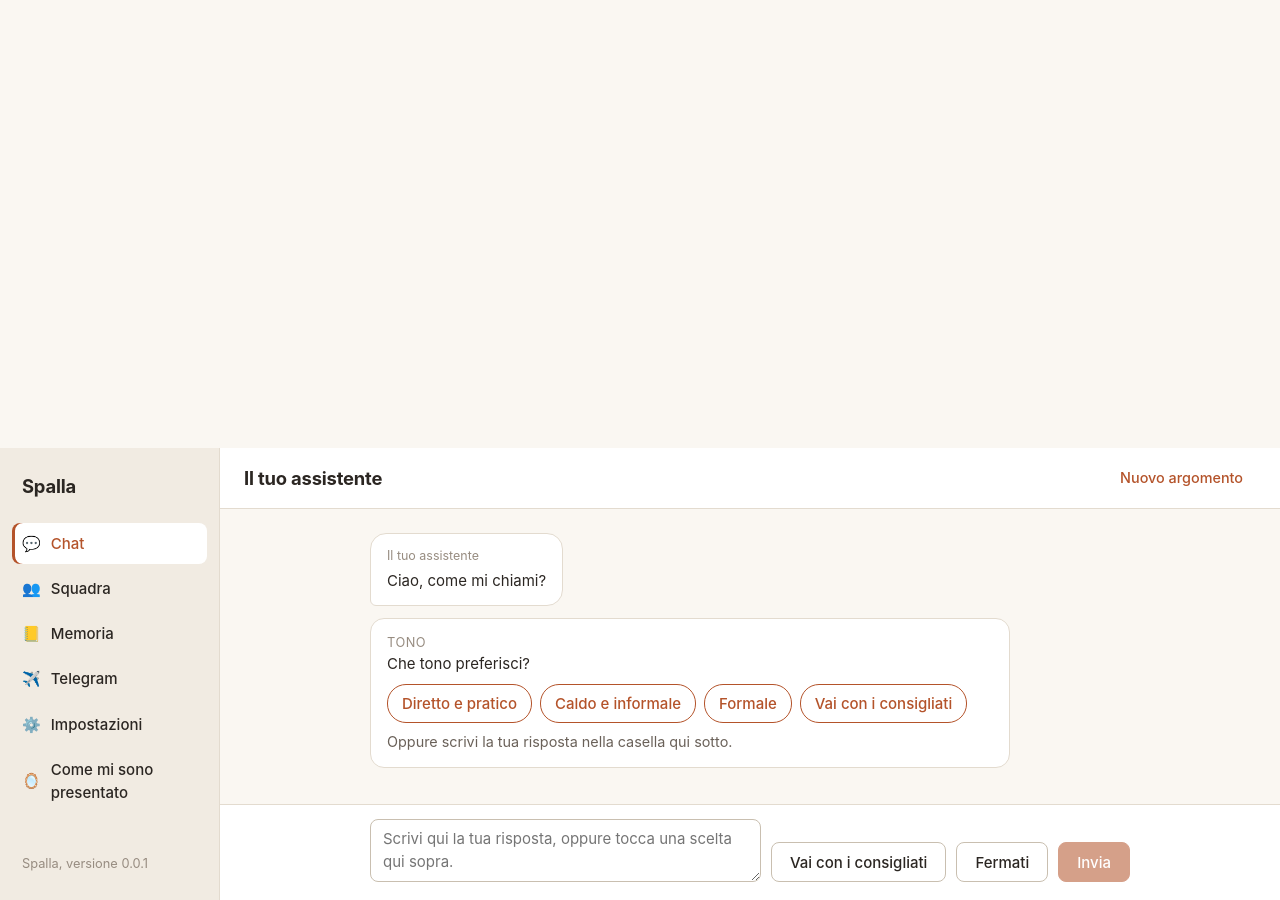
Test: la chat nella finestra › presentazioni: rituale al primo avvio, [Vai con i consigliati] fisso, "Presentazioni concluse" con i problemi
This screenshot has width=1280, height=900.
(page scrolled)
Expected: the text box named "Il tuo messaggio" is shown, [370,819,761,882]
Click the 2nd button "Vai con i consigliati" at (859, 862), box [771,842,946,882]
(page scrolled)
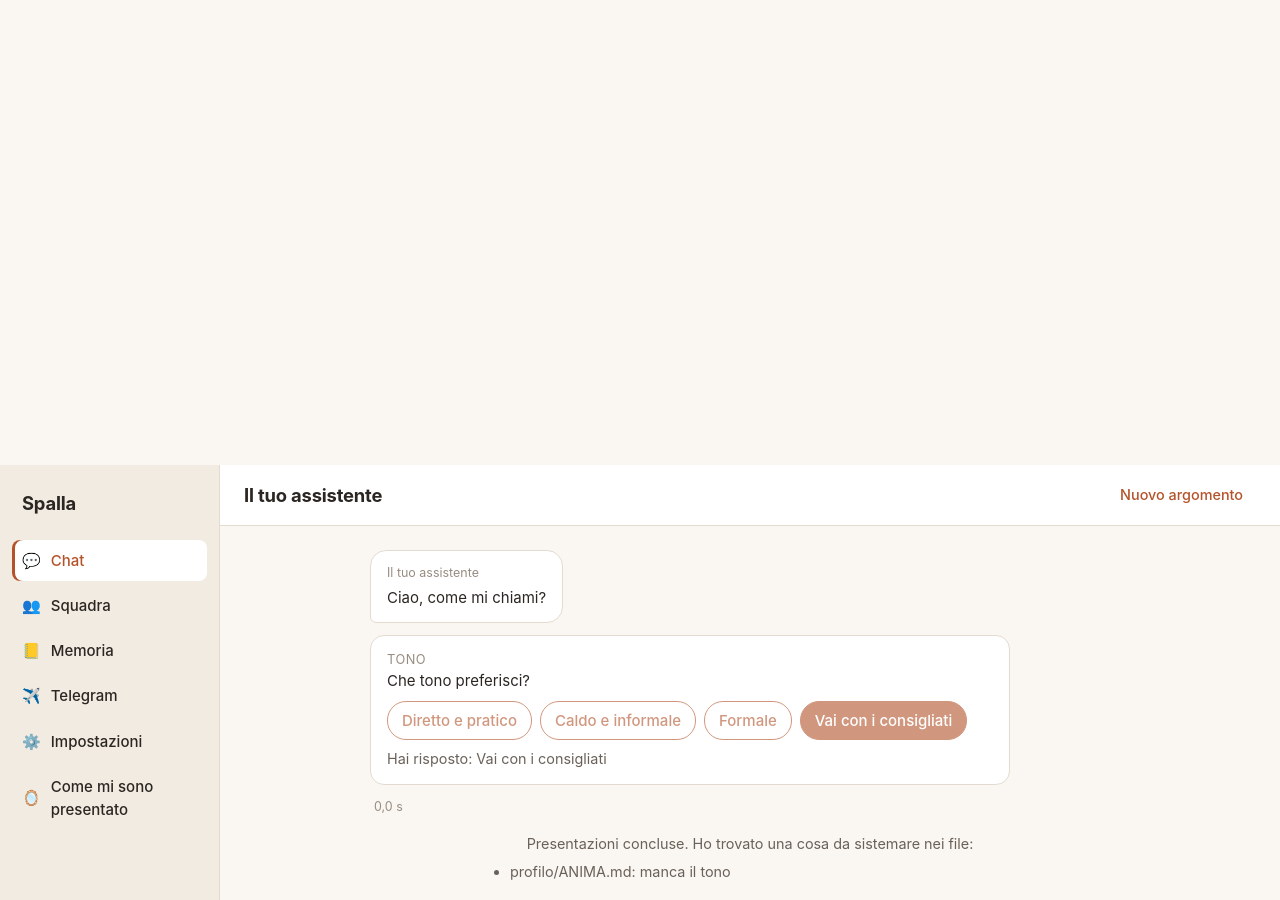
Now the text "Presentazioni concluse." is shown, box [527,835,973,852]
Now the list item "profilo/ANIMA.md: manca il tono" is shown, box [510,863,731,880]
Now the text "Presentazioni concluse." is shown once, box [510,835,973,880]
